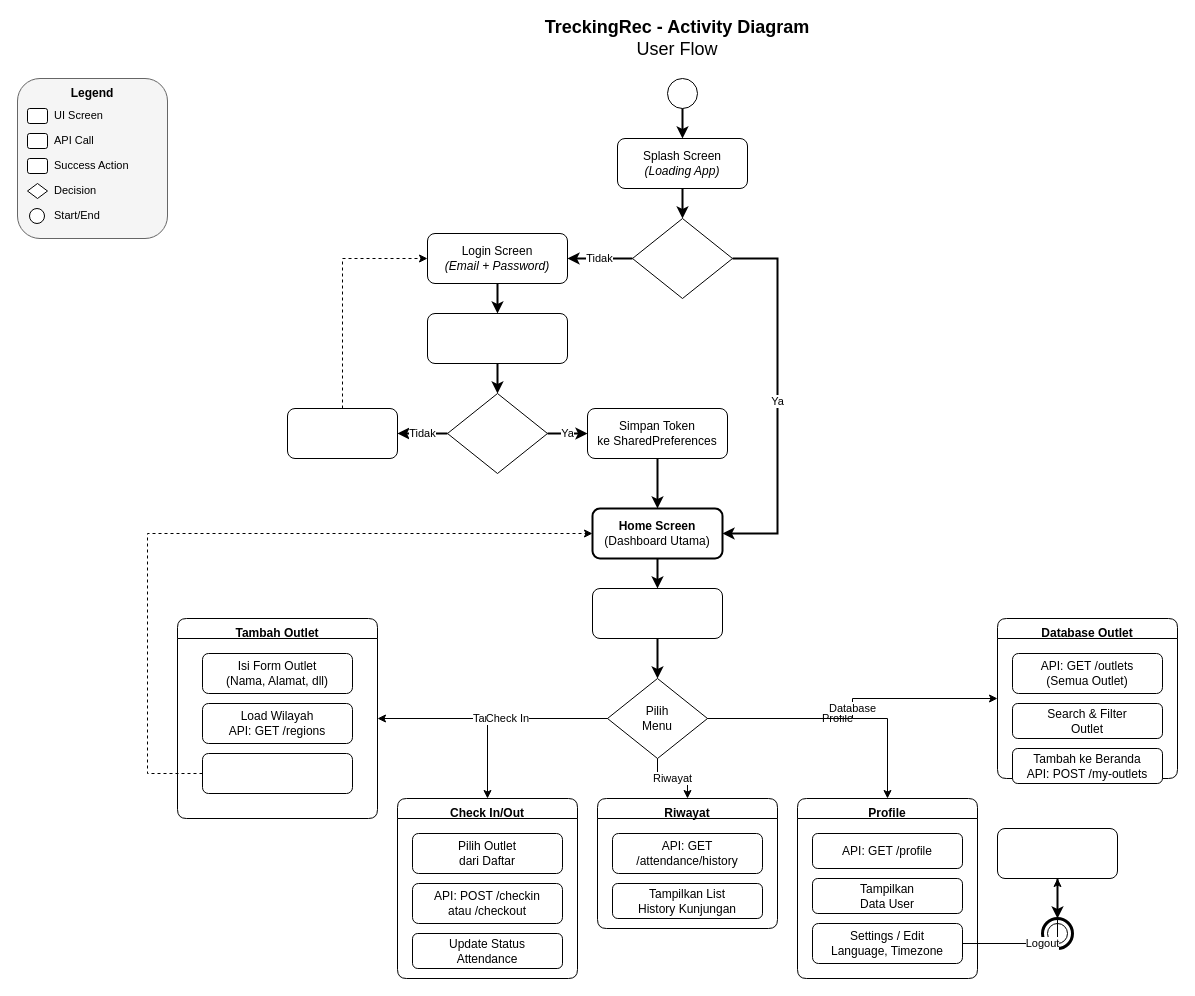
Some shapes in this 1195 by 996 pixel diagram are drawn without their labels. Each missing label, with the centre of its shape:
"API: GET /my-outlets (Load Outlet User)" belongs at (657,613).
"API: POST /auth/login (Laravel Backend)" belongs at (497,338).
"Login Berhasil?" belongs at (497,433).
"Logout (Hapus Token)" belongs at (1057,853).
"Simpan Outlet API: POST /outlets" belongs at (277,773).
"Tampilkan Error Message" belongs at (342,433).
"Token Tersimpan?" belongs at (682,258).
